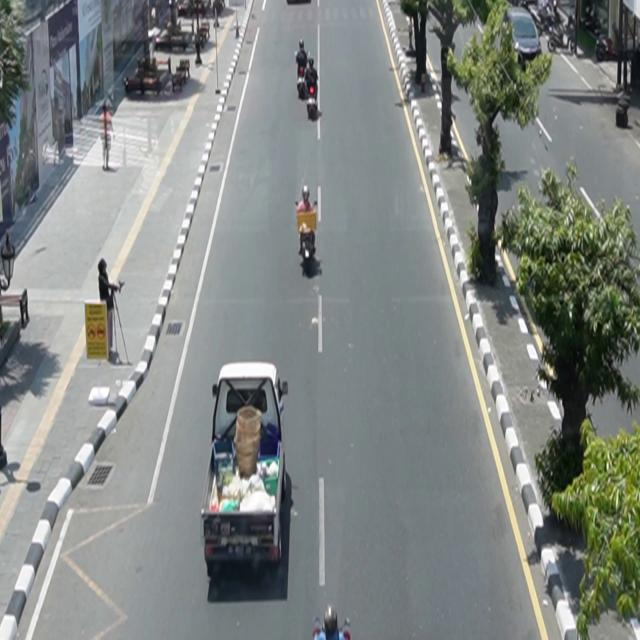truck: (201, 361, 290, 578)
